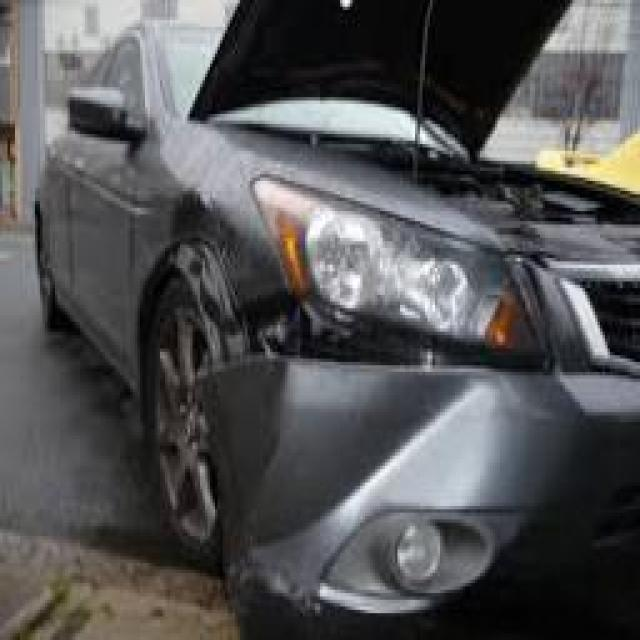rapairable: (222, 330, 464, 594)
